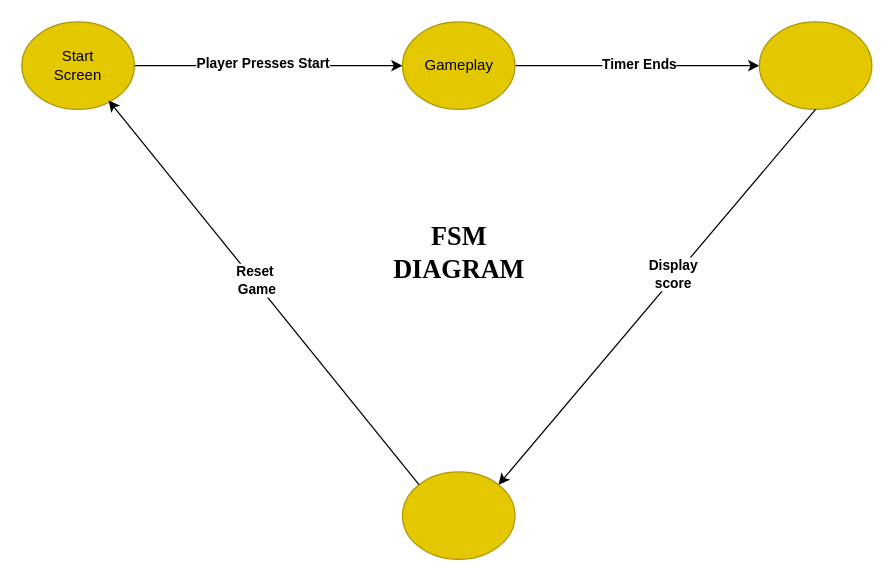
This 894x581 diagram has some shape labels left out. The shapes that lost their labels are listed below. From the top down, each one's centre as x and y in pixels, then its label:
point (815, 65): Scoring
point (458, 515): Game Over
